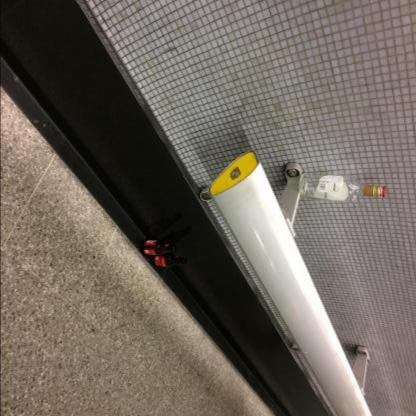Bottle cap: (298, 173, 386, 203), (152, 252, 187, 268), (141, 241, 177, 256)
